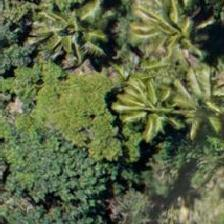Kelapa_Sawit: (111, 62, 201, 152), (30, 0, 120, 74), (133, 0, 223, 68), (160, 59, 224, 149)
